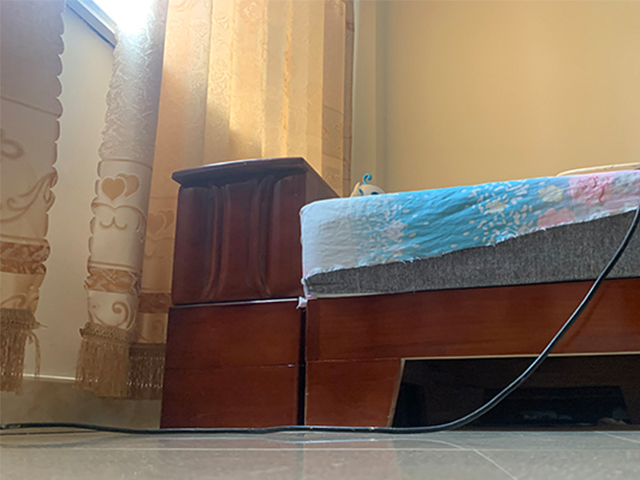curtain: (77, 1, 350, 399), (1, 1, 63, 394)
sofa: (159, 156, 640, 431)
wire: (1, 414, 467, 434)
